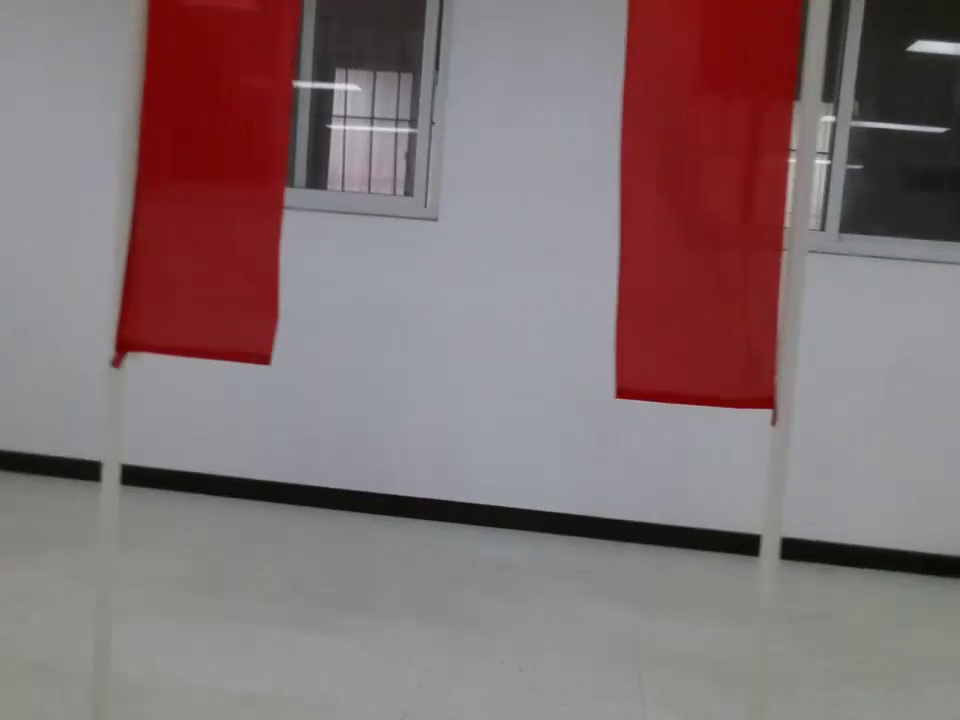qi: (615, 1, 801, 415), (103, 1, 310, 370)
